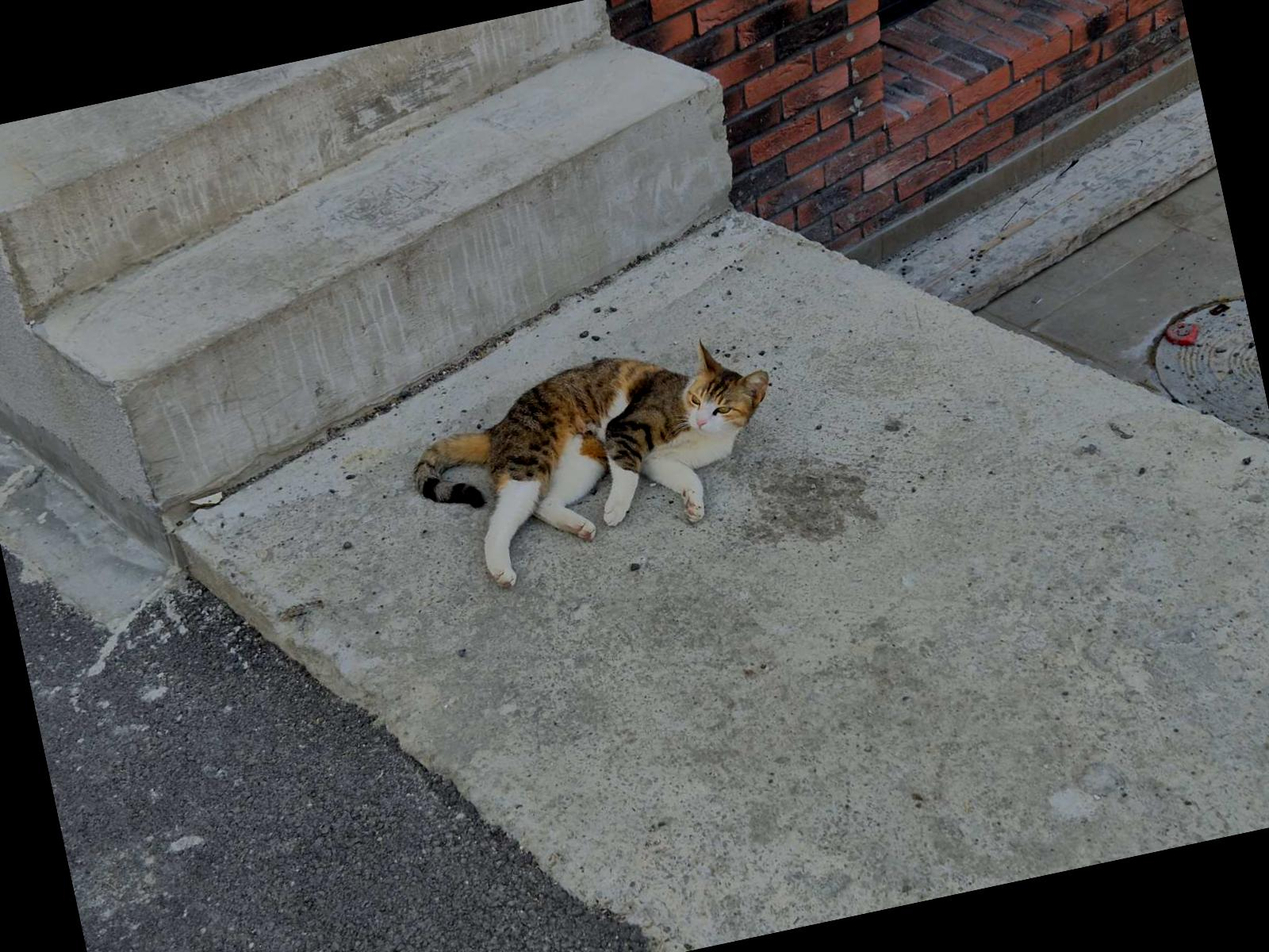macka: (400, 324, 801, 603)
